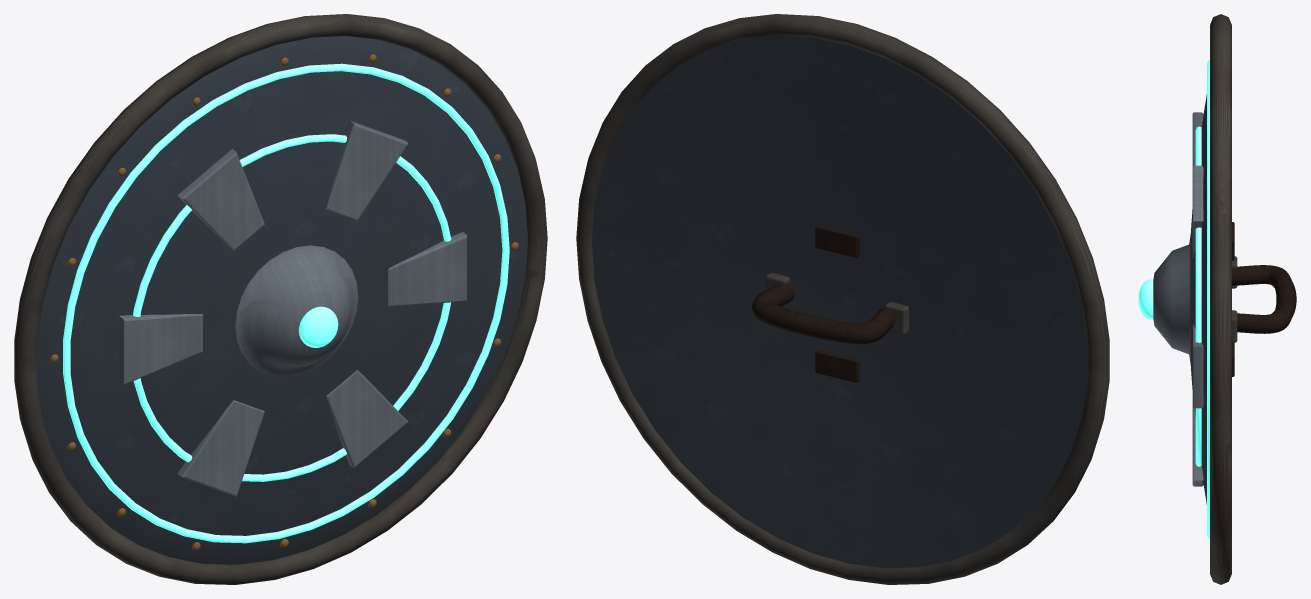
File: kinetic-disc.glb
3 views of the same model, side by side, from view 1: azimuth 30°, elevation 25°; view 2: azimuth 150°, elevation 25°; view 3: azimuth 270°, elevation 25° (orthographic). The views are drawn at different scales.
Visible parts, largest first — view 1: ceramic / ceramic composite panel, alloy / machined anodized alloy, iron / hammer-scaled wrought iron, energy / emissive field channel, bronze / cast bronze with patina; view 2: ceramic / ceramic composite panel, iron / hammer-scaled wrought iron, leather / oiled leather wrap; view 3: iron / hammer-scaled wrought iron, alloy / machined anodized alloy, energy / emissive field channel, leather / oiled leather wrap, ceramic / ceramic composite panel.
Boxes of the visible parts, x1,y1,x2,y2 form: ceramic / ceramic composite panel: [37, 36, 527, 564]; alloy / machined anodized alloy: [118, 120, 466, 496]; iron / hammer-scaled wrought iron: [14, 14, 547, 584]; energy / emissive field channel: [63, 63, 509, 543]; bronze / cast bronze with patina: [50, 53, 518, 550]; ceramic / ceramic composite panel: [592, 36, 1086, 568]; iron / hammer-scaled wrought iron: [576, 14, 1109, 584]; leather / oiled leather wrap: [751, 225, 895, 382]; iron / hammer-scaled wrought iron: [1210, 14, 1237, 584]; alloy / machined anodized alloy: [1153, 112, 1203, 486]; energy / emissive field channel: [1138, 60, 1209, 538]; leather / oiled leather wrap: [1232, 222, 1296, 376]; ceramic / ceramic composite panel: [1190, 94, 1206, 504].
Size of the model in its own units: 0.6232 by 0.6236 by 0.1728.
6 materials, 5 textured.
